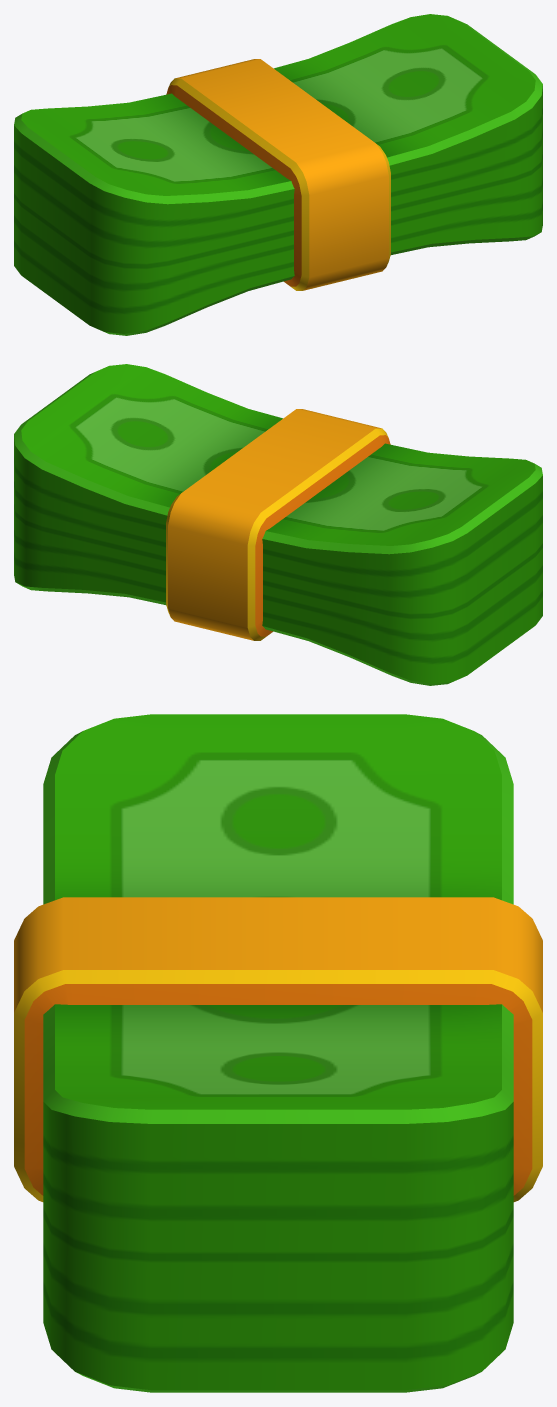
File: money_3.fbx
The picture shows the model from 3 angles, top to bottom: view 1: azimuth 30°, elevation 25°; view 2: azimuth 150°, elevation 25°; view 3: azimuth 270°, elevation 25°; orthographic projection. The views are drawn at different scales.
Parts seen in each view (by area): view 1: money_3; view 2: money_3; view 3: money_3.
Part boxes in pixels (box(x1,y1,x2,y2)): money_3: box(14, 14, 542, 335); money_3: box(14, 364, 542, 685); money_3: box(14, 714, 542, 1392).
Size of the model in its own units: 93.44 by 30.28 by 51.31.
